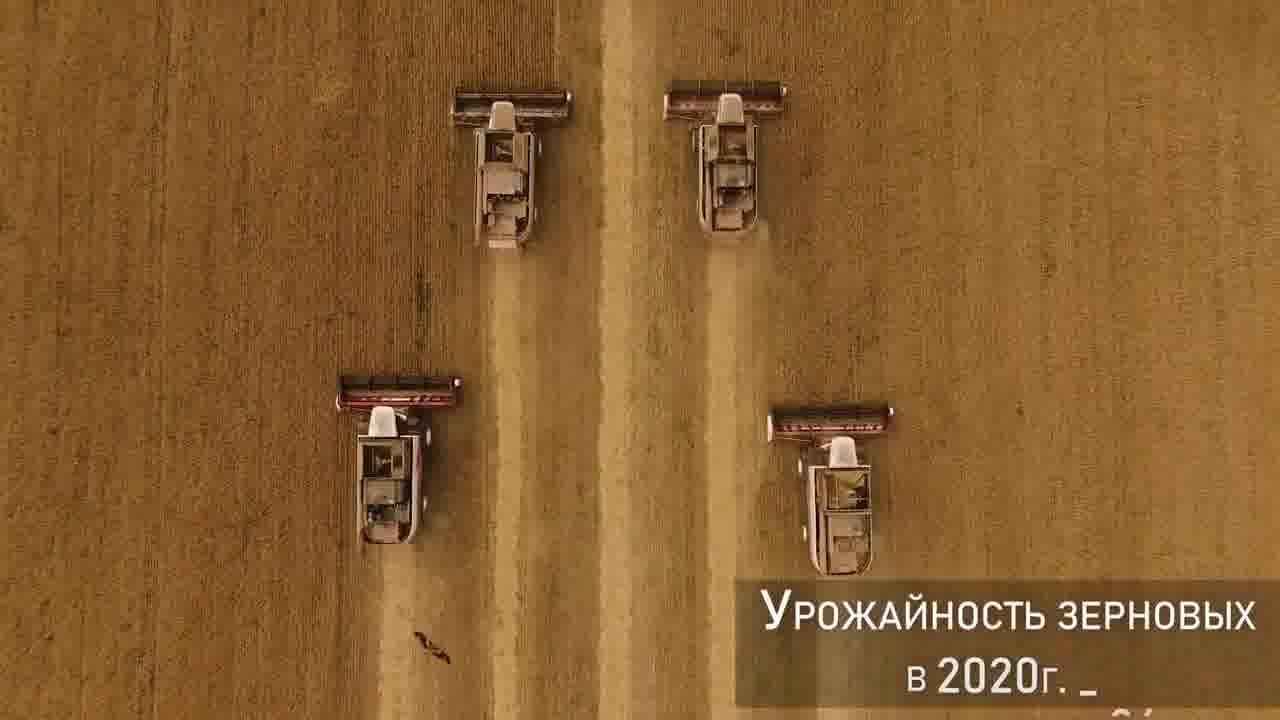combine harvester: (323, 360, 471, 566), (755, 390, 901, 583), (660, 67, 800, 246), (444, 78, 581, 260)
